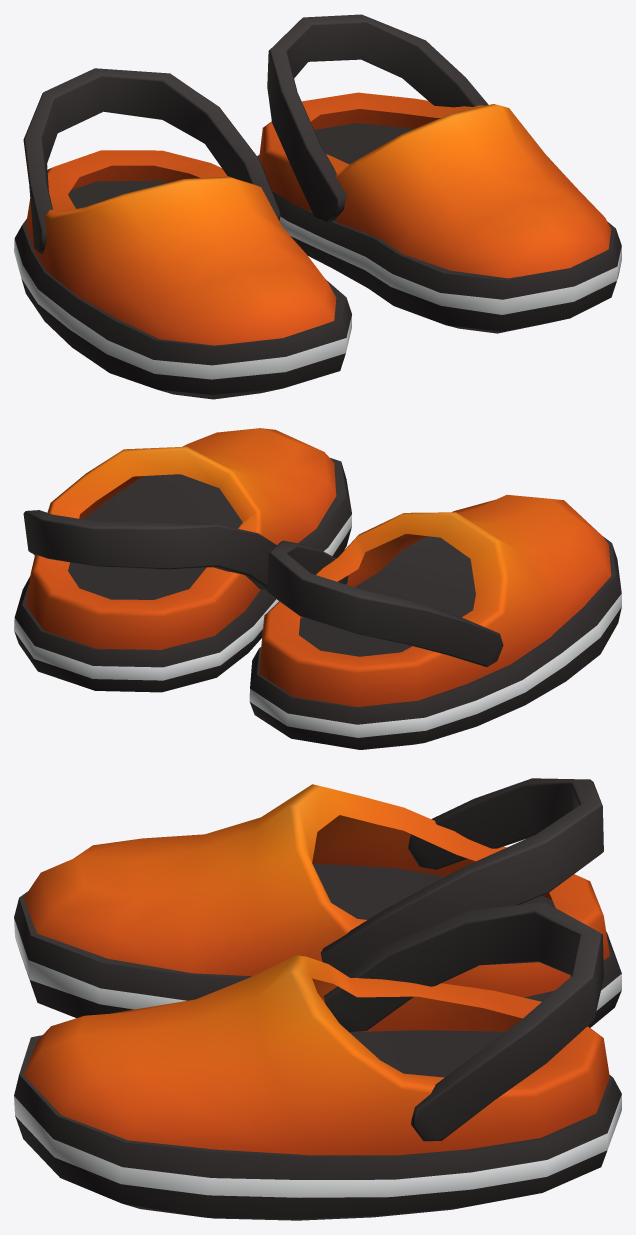
File: shoe_slippers_005.glb
3 views of the same model, one above another, from view 1: azimuth 30°, elevation 25°; view 2: azimuth 150°, elevation 25°; view 3: azimuth 270°, elevation 25° (orthographic). The views are drawn at different scales.
Visible parts, largest first — view 1: Shoe_Slippers_005; view 2: Shoe_Slippers_005; view 3: Shoe_Slippers_005.
Boxes of the visible parts, box(x1,y1,x2,y2) form: Shoe_Slippers_005: box(14, 14, 621, 399); Shoe_Slippers_005: box(14, 428, 621, 749); Shoe_Slippers_005: box(14, 778, 621, 1220).
Bounding box in the file's own units: 0.3826 × 0.1253 × 0.3206.
Materials: 1 (1 with a texture image).
